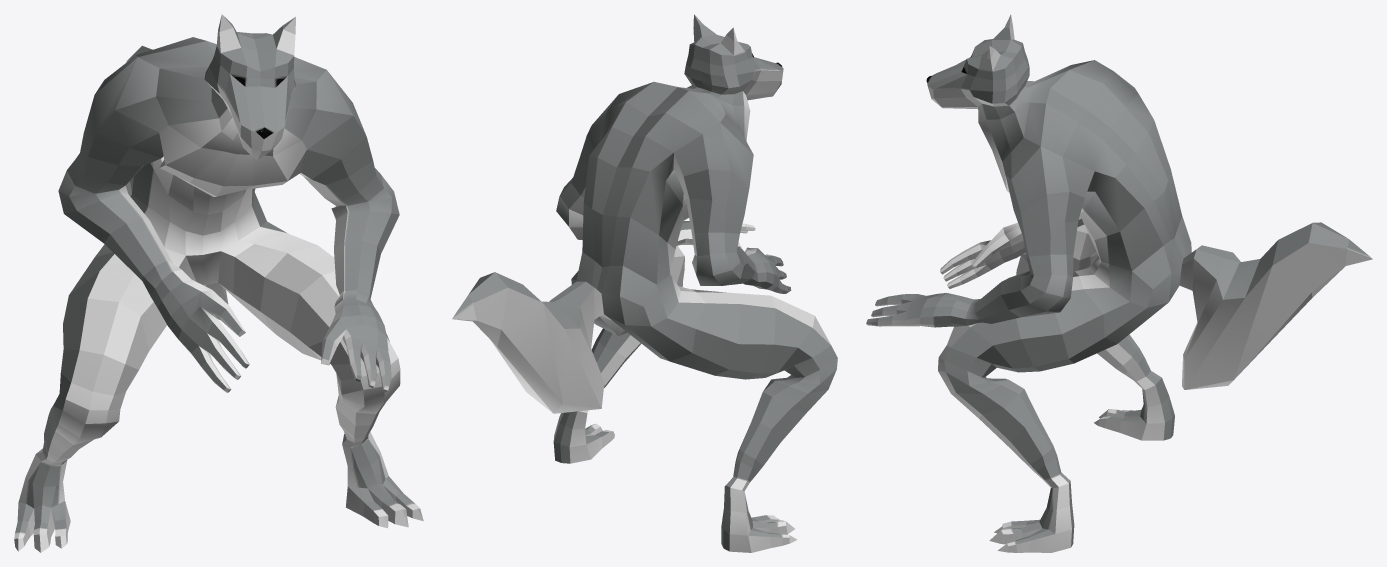
The model's file is WolfAttack(110).obj.
3 renders of one model, left to right at view 1: azimuth 30°, elevation 25°; view 2: azimuth 150°, elevation 25°; view 3: azimuth 270°, elevation 25°, orthographic. The views are drawn at different scales.
Parts seen in each view (by area): view 1: Box001; view 2: Box001; view 3: Box001.
Part boxes in pixels (bbox=[...]): Box001: bbox=[14, 14, 423, 552]; Box001: bbox=[452, 14, 837, 552]; Box001: bbox=[866, 14, 1372, 552].
Bounding box in the file's own units: 76.6 × 119 × 118.
